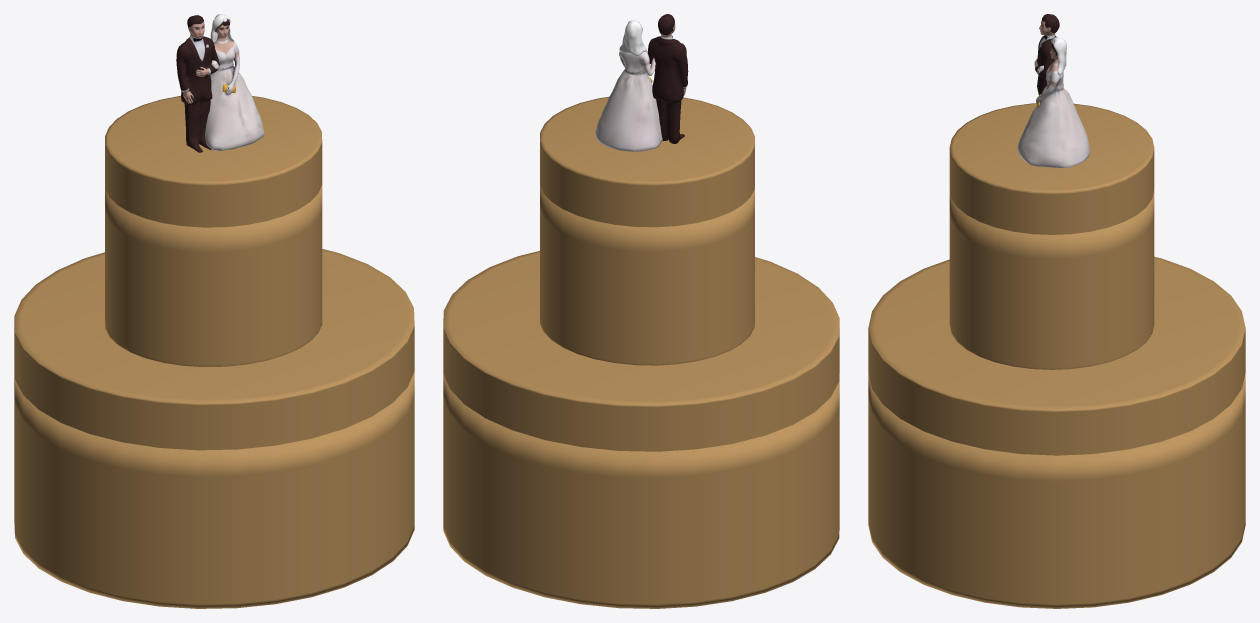
File: 2-tier-caramel-none-bridegroom.glb
3 renders of one model, left to right at view 1: azimuth 30°, elevation 25°; view 2: azimuth 150°, elevation 25°; view 3: azimuth 270°, elevation 25°, orthographic. The views are drawn at different scales.
Parts seen in each view (by area): view 1: Cylinder.023, Cylinder.013, 13501_Cake_Topper_Bride_Groom_v1_L1.003; view 2: Cylinder.023, Cylinder.013, 13501_Cake_Topper_Bride_Groom_v1_L1.003; view 3: Cylinder.023, Cylinder.013, 13501_Cake_Topper_Bride_Groom_v1_L1.003.
Part boxes in pixels (left/top/right/bottom): Cylinder.023: left=14, top=249, right=414, bottom=608; Cylinder.013: left=105, top=96, right=322, bottom=366; 13501_Cake_Topper_Bride_Groom_v1_L1.003: left=176, top=14, right=264, bottom=152; Cylinder.023: left=443, top=251, right=839, bottom=608; Cylinder.013: left=540, top=97, right=754, bottom=365; 13501_Cake_Topper_Bride_Groom_v1_L1.003: left=595, top=14, right=688, bottom=151; Cylinder.023: left=868, top=256, right=1245, bottom=608; Cylinder.013: left=949, top=103, right=1154, bottom=369; 13501_Cake_Topper_Bride_Groom_v1_L1.003: left=1017, top=14, right=1089, bottom=167.
Size of the model in its own units: 3.4 by 4.79 by 3.27.
2 materials, 1 textured.
